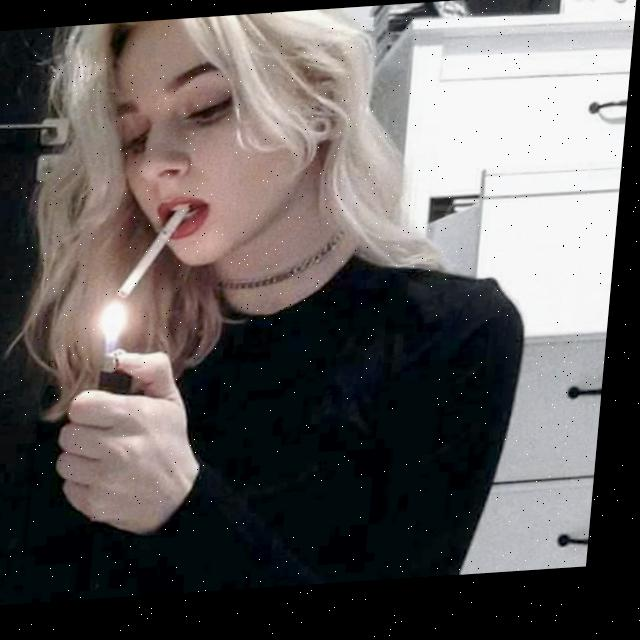cigarette: (121, 209, 194, 303)
